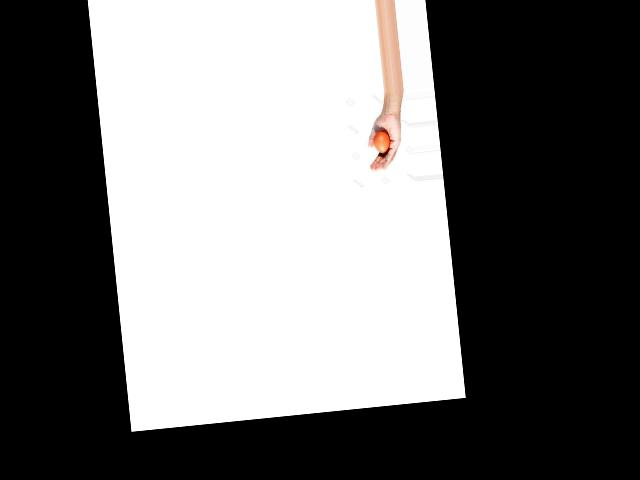egg: (373, 130, 391, 153)
